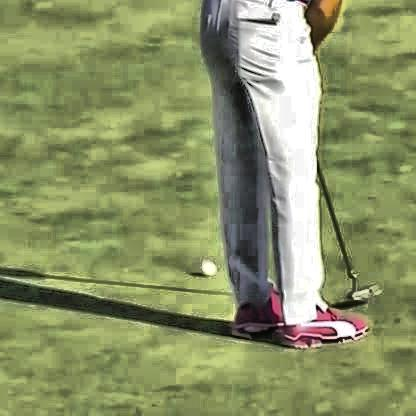golfball: (197, 260, 216, 276)
